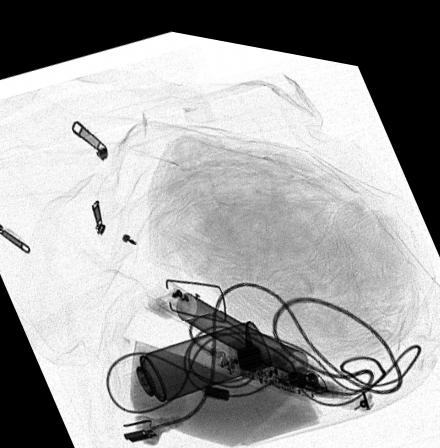Sprayer: (108, 310, 273, 403)
